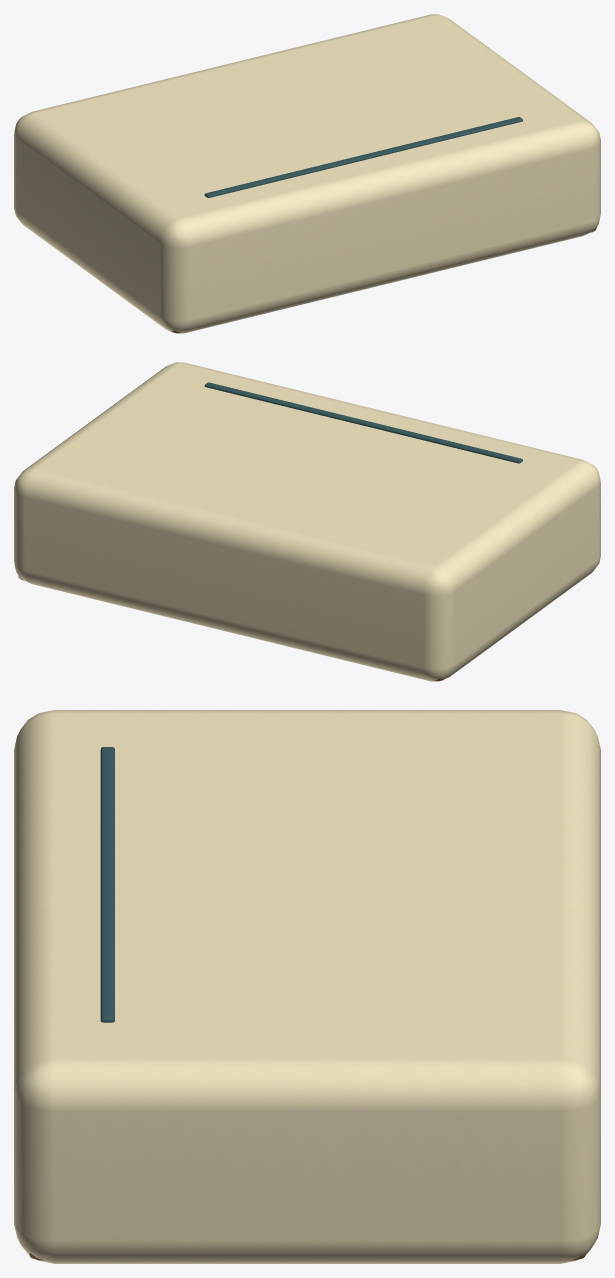
File: syllable_tile.glb
3 renders of one model, top to bottom at view 1: azimuth 30°, elevation 25°; view 2: azimuth 150°, elevation 25°; view 3: azimuth 270°, elevation 25°, orthographic. The views are drawn at different scales.
Visible parts, largest first — view 1: RoundedCarrierBody, ReadingEdge; view 2: RoundedCarrierBody, ReadingEdge; view 3: RoundedCarrierBody, ReadingEdge.
Boxes of the visible parts, bbox=[...] form: RoundedCarrierBody: bbox=[14, 14, 600, 333]; ReadingEdge: bbox=[204, 117, 522, 197]; RoundedCarrierBody: bbox=[14, 362, 600, 681]; ReadingEdge: bbox=[204, 382, 522, 463]; RoundedCarrierBody: bbox=[14, 710, 600, 1263]; ReadingEdge: bbox=[100, 747, 114, 1022].
Size of the model in its own units: 1.45 by 0.367 by 0.95.
1 material, 1 textured.
